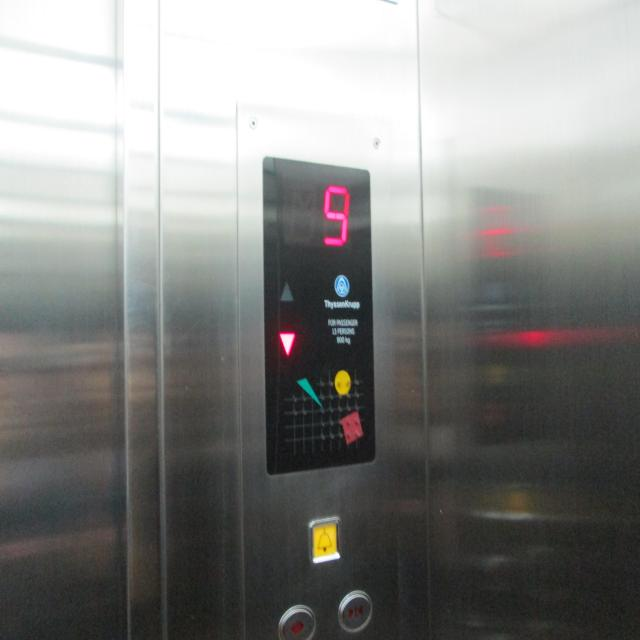alarm: (308, 516, 342, 565)
close: (337, 589, 373, 632)
led: (253, 142, 382, 484)
open: (278, 603, 316, 640)
